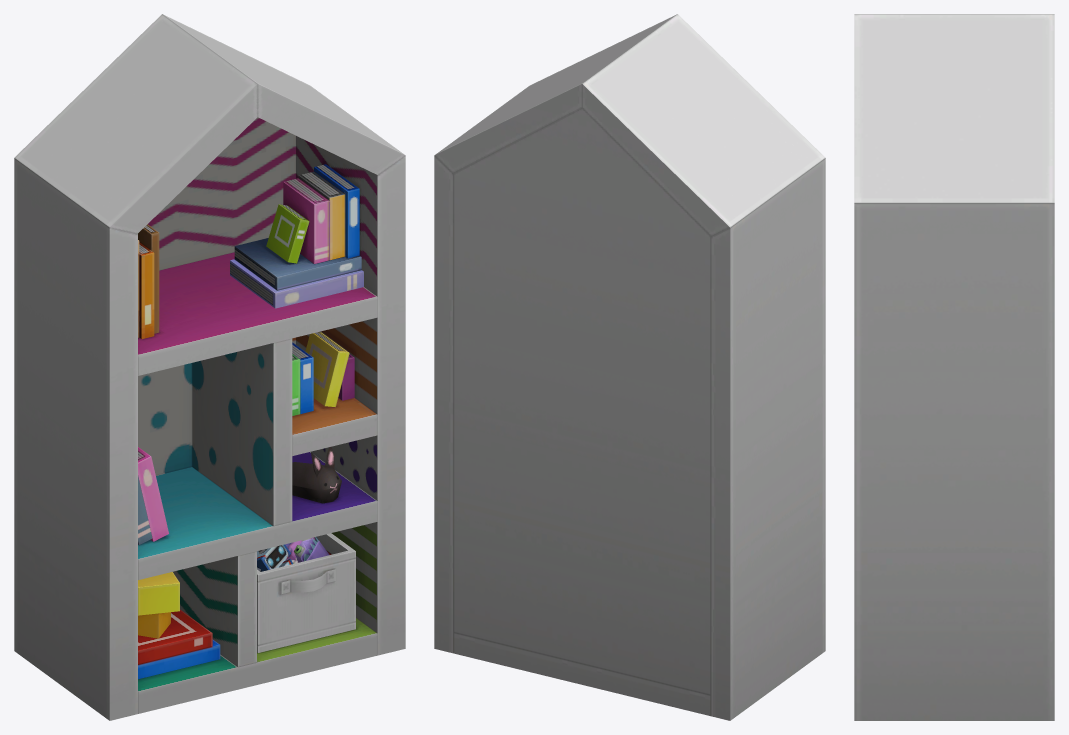
Rendered from estanteriaParaInfantes.fbx.
The picture shows the model from 3 angles, left to right: view 1: azimuth 30°, elevation 25°; view 2: azimuth 150°, elevation 25°; view 3: azimuth 270°, elevation 25°; orthographic projection. The views are drawn at different scales.
Parts seen in each view (by area): view 1: s4studio_mesh_0; view 2: s4studio_mesh_0; view 3: s4studio_mesh_0.
Boxes of the visible parts, x1,y1,x2,y2 form: s4studio_mesh_0: [14, 14, 405, 720]; s4studio_mesh_0: [434, 14, 825, 720]; s4studio_mesh_0: [854, 14, 1054, 720].
Bounding box in the file's own units: 100 × 194 × 55.89.
Materials: 1 (1 with a texture image).
